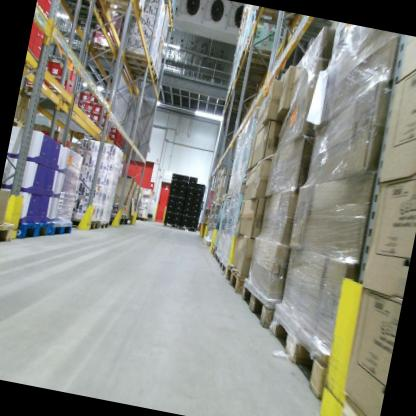pallet: (257, 297, 338, 397), (234, 274, 285, 332), (64, 0, 120, 37), (235, 40, 283, 76), (15, 212, 53, 248), (250, 5, 299, 32), (79, 37, 121, 67), (92, 0, 149, 21), (115, 46, 157, 72), (220, 261, 247, 299), (340, 395, 381, 416), (121, 64, 160, 85), (63, 210, 101, 231), (0, 216, 19, 254), (56, 0, 108, 12), (49, 218, 74, 241), (10, 118, 34, 138), (178, 222, 199, 235), (161, 219, 179, 232), (218, 255, 229, 276), (109, 209, 129, 220), (212, 249, 223, 268), (208, 243, 218, 260), (203, 235, 214, 248), (99, 218, 110, 231), (219, 192, 227, 205), (214, 197, 221, 205)
small_load_carrier: (195, 182, 207, 195), (171, 171, 182, 181), (187, 221, 199, 230), (190, 204, 203, 212), (187, 175, 198, 184), (185, 185, 196, 194), (191, 199, 204, 206), (163, 215, 173, 224), (184, 192, 195, 200), (181, 208, 192, 216), (180, 214, 191, 222), (179, 220, 190, 228), (189, 215, 200, 223), (194, 194, 205, 202), (190, 210, 202, 217), (180, 173, 189, 182), (186, 181, 196, 189), (167, 193, 177, 201), (183, 198, 194, 205), (182, 203, 192, 210), (176, 191, 186, 198), (175, 197, 185, 204), (166, 199, 176, 206), (168, 188, 178, 195), (169, 183, 179, 190), (178, 180, 187, 187), (174, 203, 183, 210), (172, 213, 181, 220), (164, 210, 173, 217), (165, 204, 174, 211), (170, 179, 180, 185), (171, 219, 180, 225), (178, 186, 186, 192), (173, 209, 182, 214)
